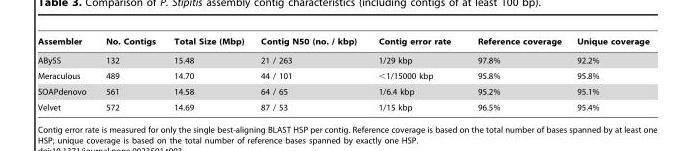table: (37, 36, 648, 111)
table column: (251, 36, 367, 111), (463, 36, 568, 111), (367, 36, 463, 111), (164, 36, 251, 111), (568, 36, 648, 111), (95, 36, 164, 111), (37, 36, 95, 111)
table column header: (37, 36, 648, 50)
table row: (37, 50, 648, 67), (37, 67, 648, 83), (37, 83, 648, 99), (37, 36, 648, 50), (37, 99, 648, 111)
